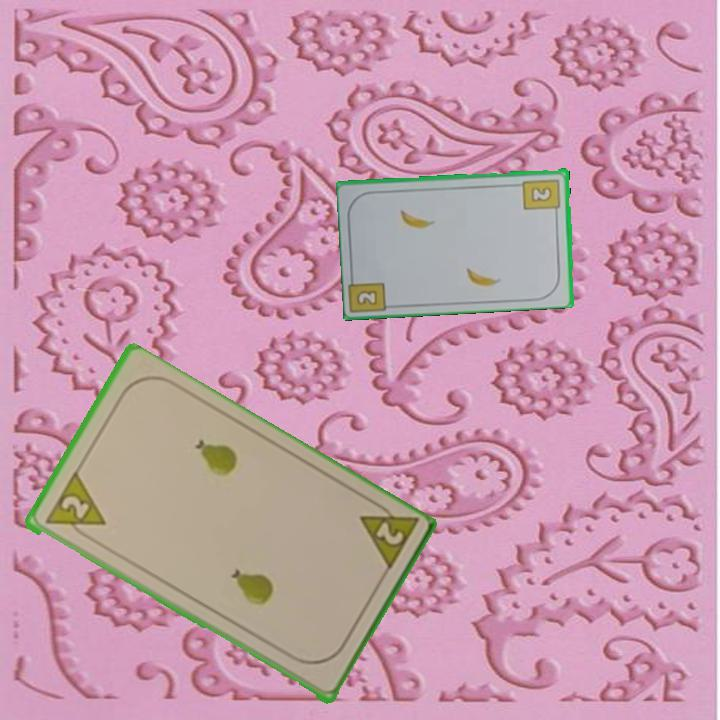2b: (520, 175, 563, 217), (353, 286, 381, 308)
2p: (41, 470, 108, 544), (371, 518, 406, 549)
